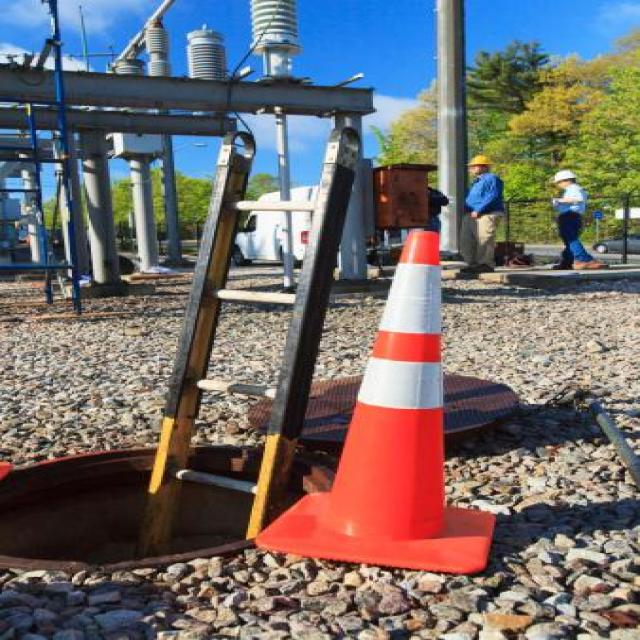Cone: (258, 227, 498, 576)
